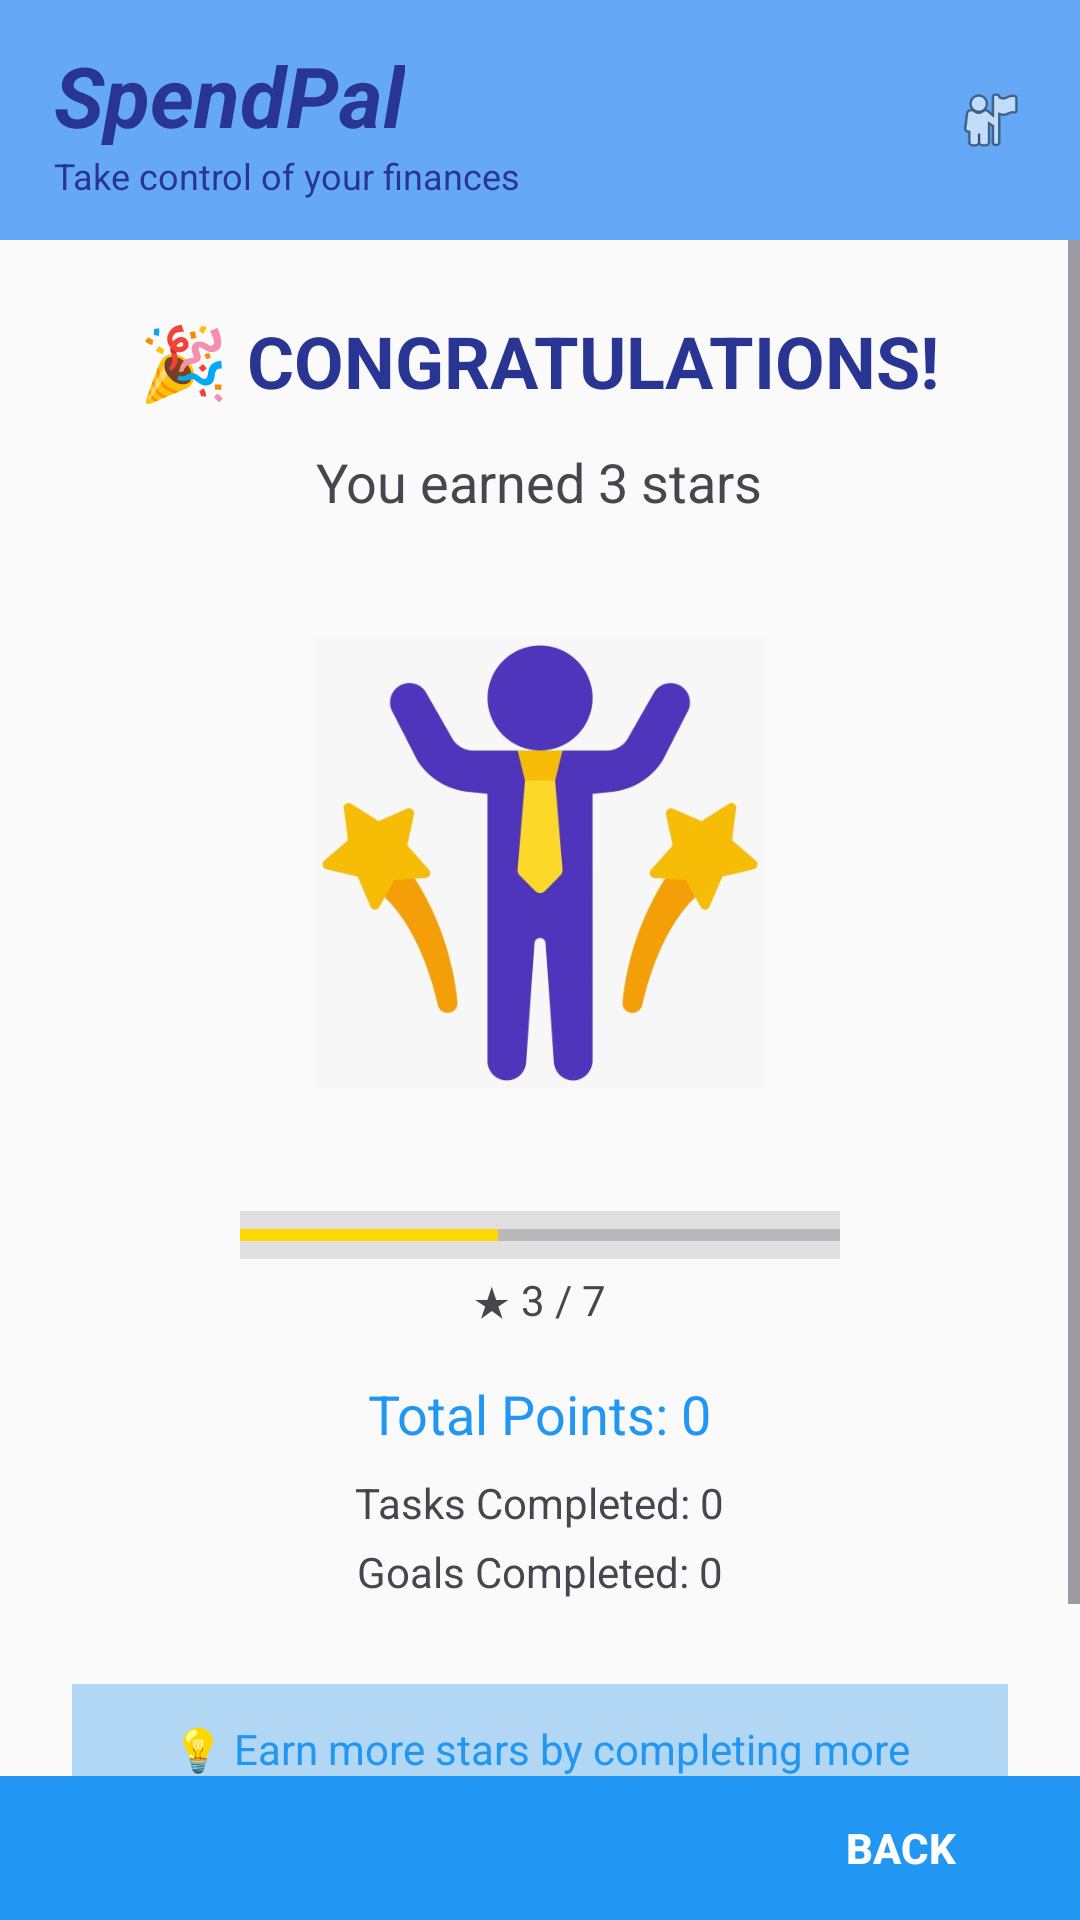

Where icons sit on this 1080px×1920px app screen, as rect(x1, y1, x2, y2):
Profile: rect(964, 93, 1018, 147)
